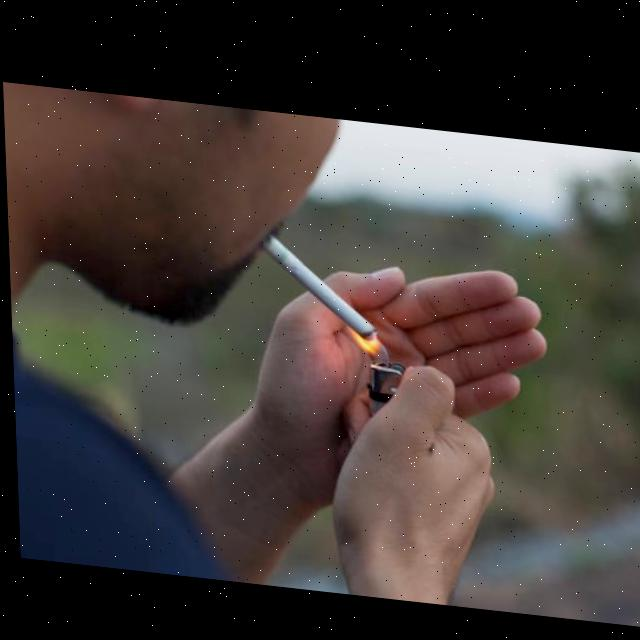cigarette: (259, 227, 376, 333)
